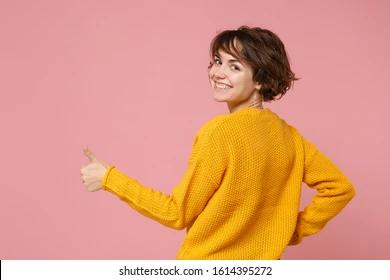sweater: (103, 106, 357, 262)
